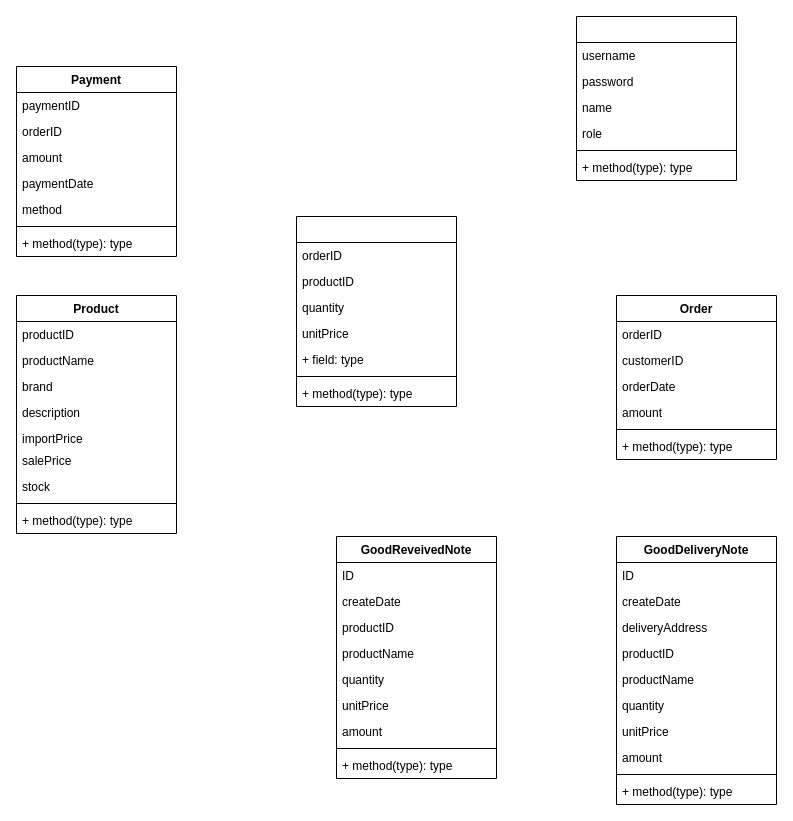
Image size: 793x821. Some labels were removed from this diagram. Each missing label, with the box of its shape:
Account: (576, 16, 736, 180)
OrderDetail: (296, 216, 456, 406)
